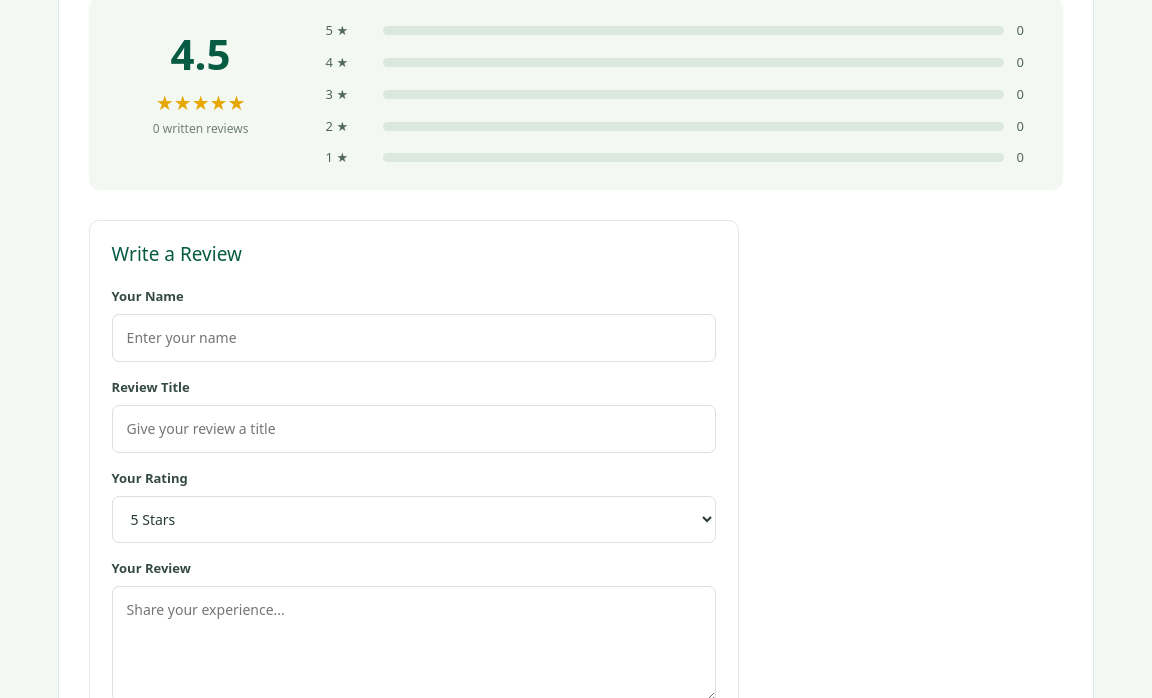
Test: ProductDetails Component › Customer Reviews › updates the review count after submitting a review
(page scrolled)
Type "Test User" into the field with id "review-name" at (414, 338), box left=112, top=314, right=716, bottom=362
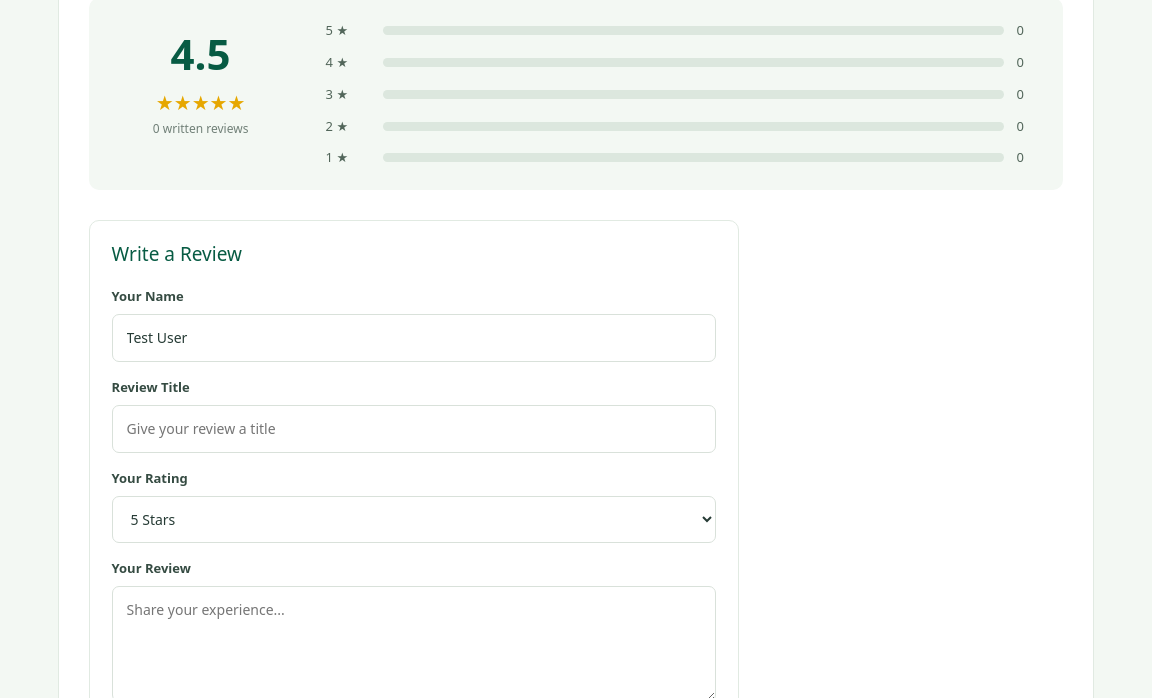
Type "Good Product" into the field with id "review-title" at (414, 429), box left=112, top=405, right=716, bottom=453
(page scrolled)
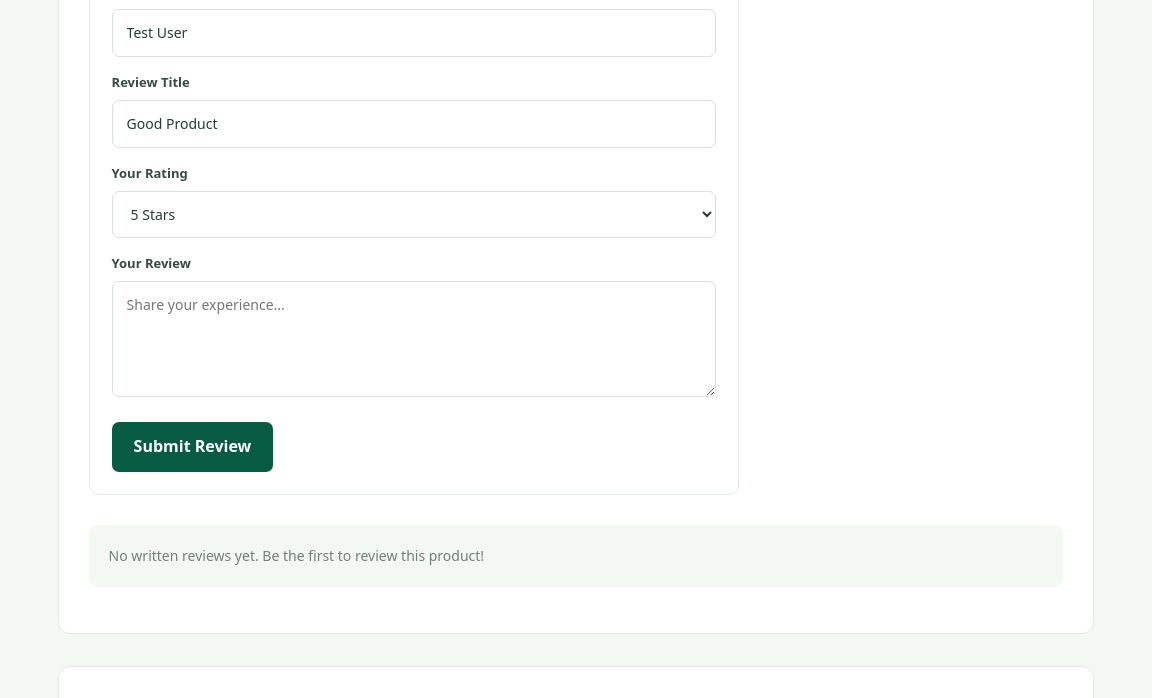
Type "Good experience." into the text box with id "review-comment" at (414, 339), box left=112, top=281, right=716, bottom=397
(page scrolled)
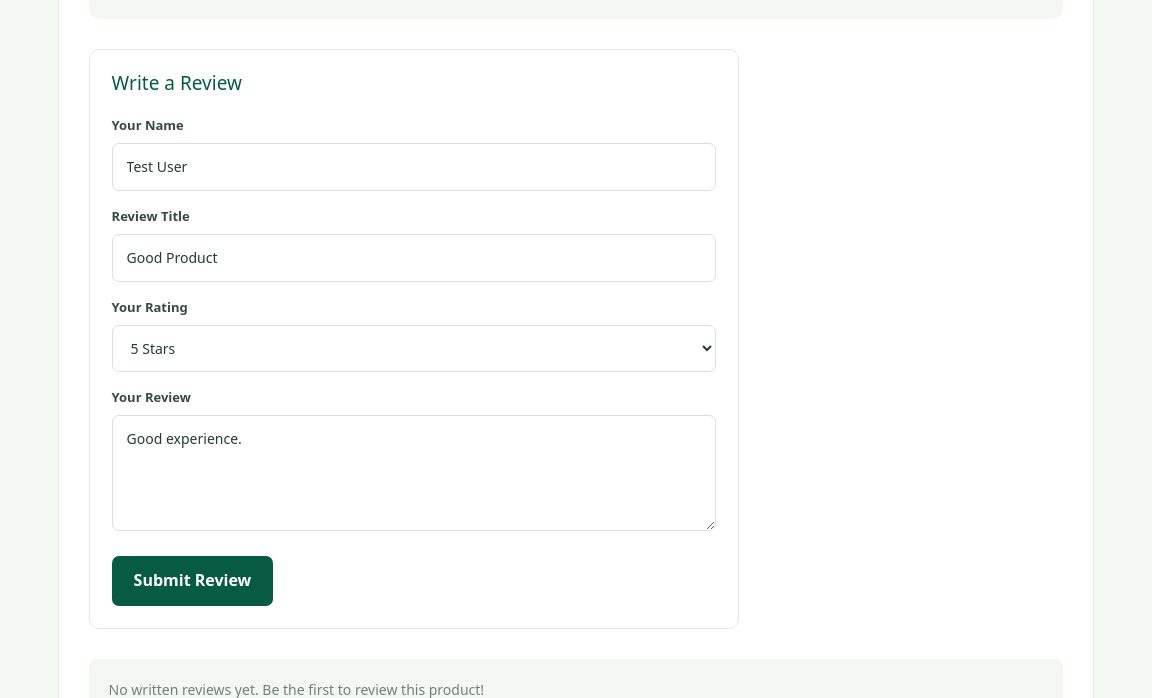
Submit the form with class "review-form", box left=89, top=49, right=739, bottom=629
(page scrolled)
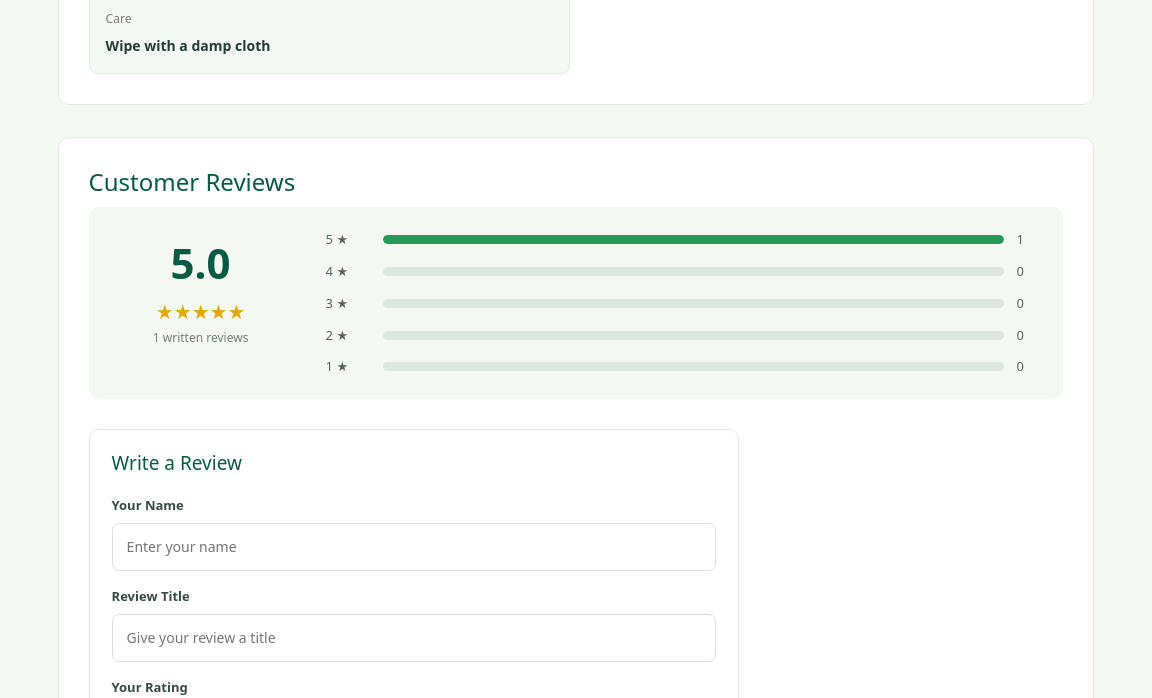
Result: the text "1 written reviews" is shown at left=153, top=329, right=248, bottom=346
